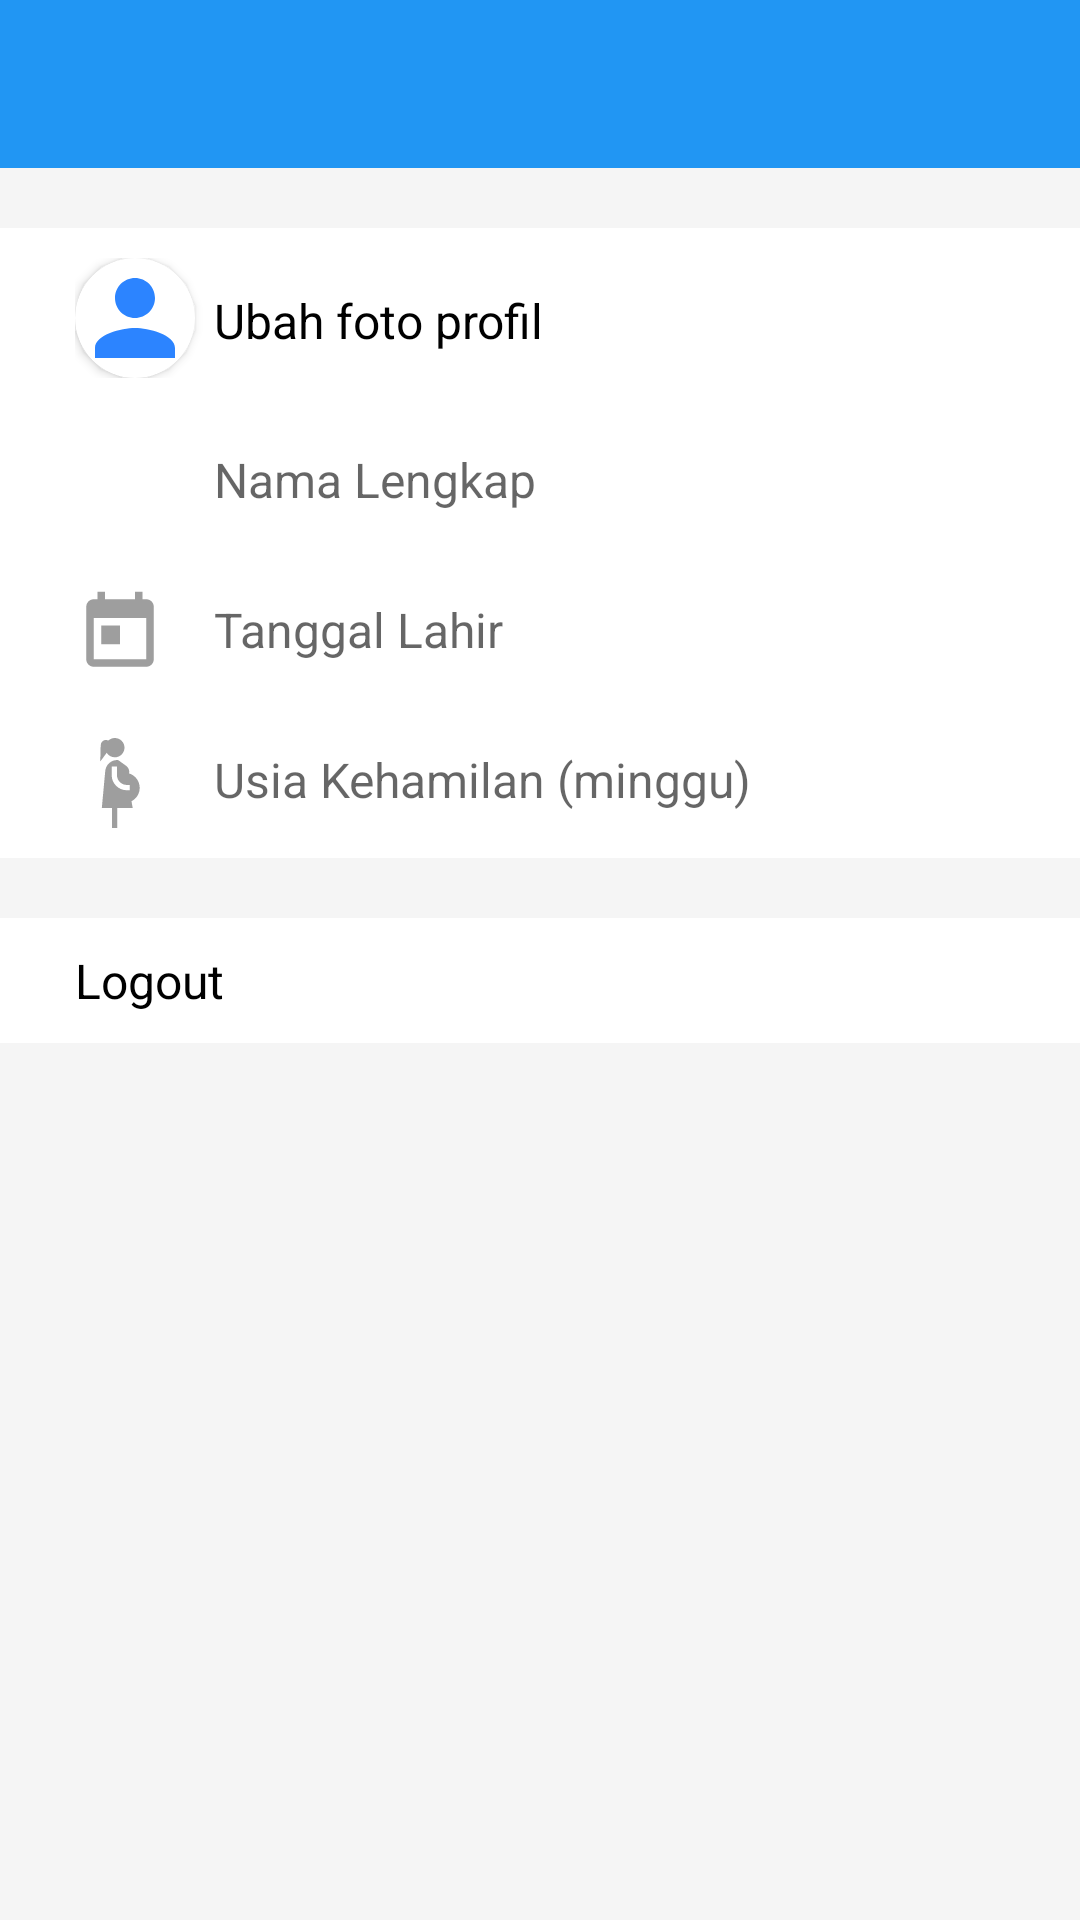

Icon bounding boxes for this 1080*1920 phone screenshot, format bbox(x1, y1, x2, y2):
date: bbox(86, 592, 154, 667)
person: bbox(75, 268, 175, 378)
pregnant: bbox(100, 738, 140, 828)
